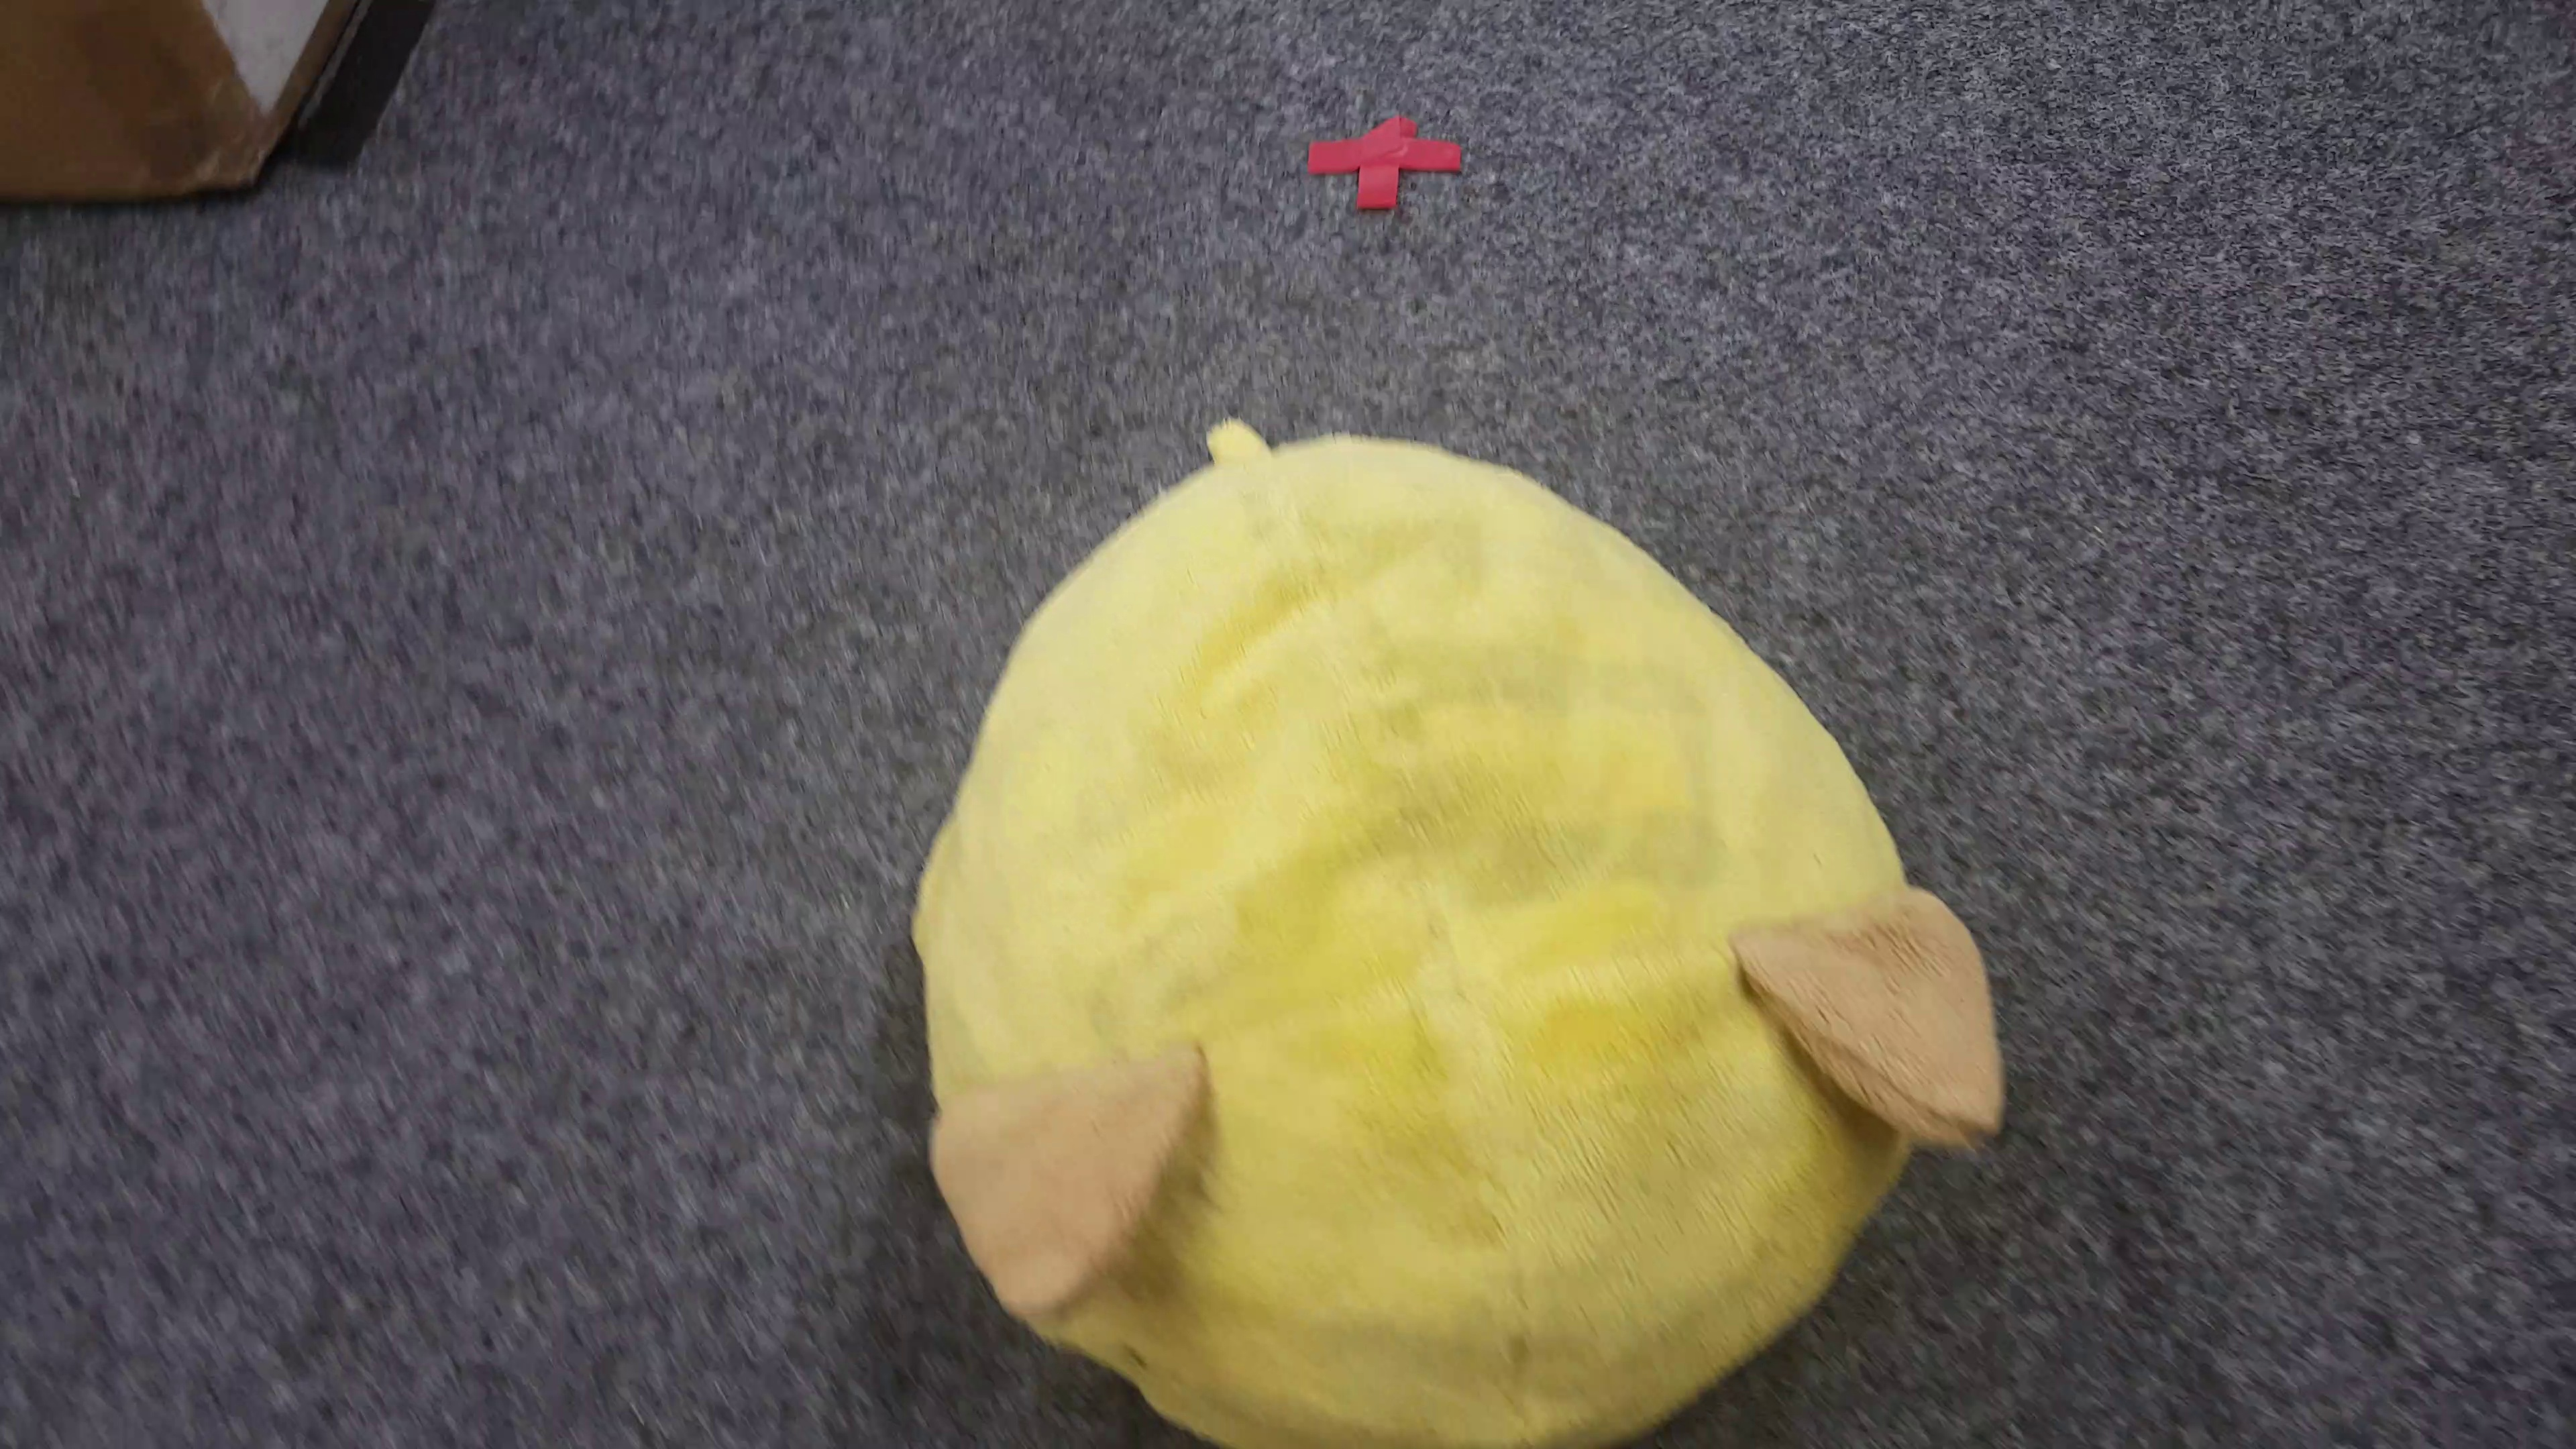grasp: (916, 407, 2012, 1449)
